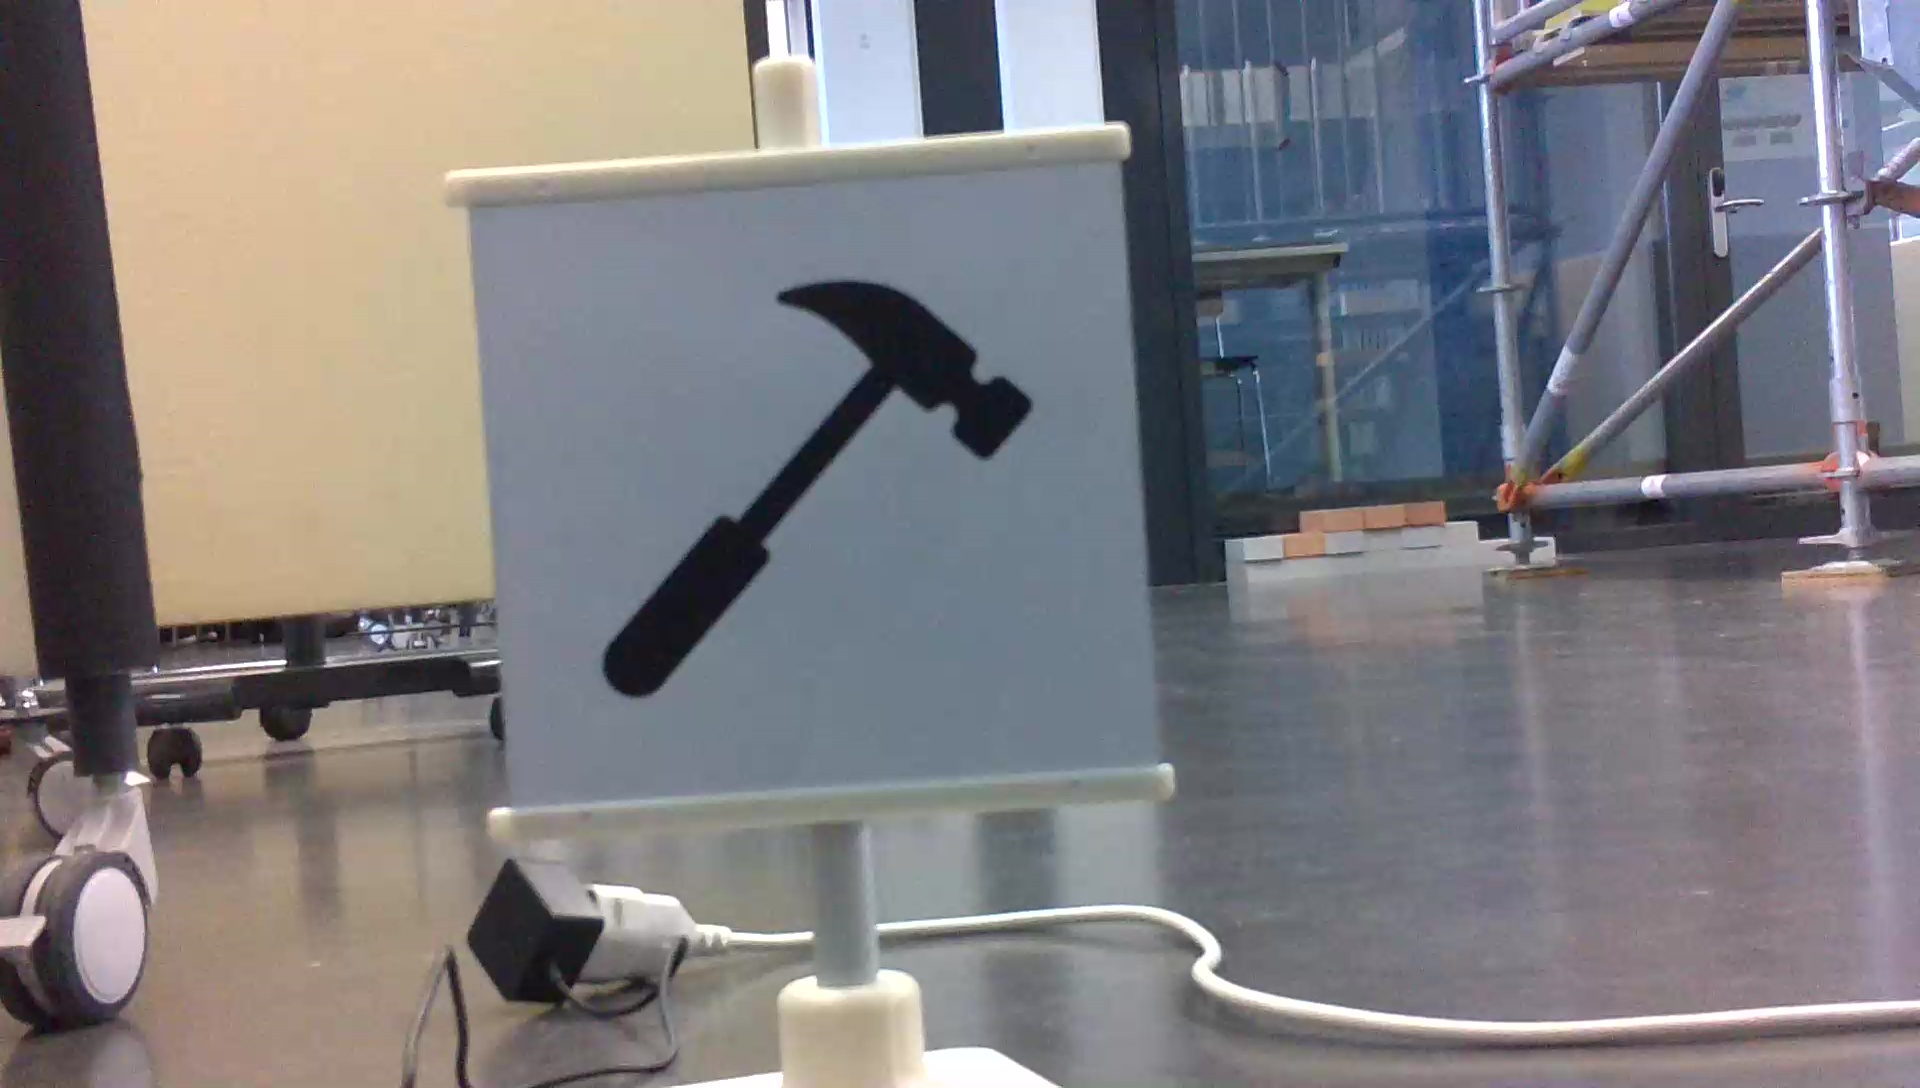hammer: (582, 268, 1047, 706)
